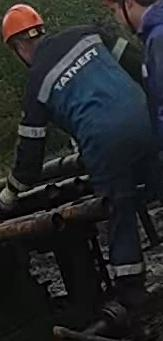gloves: (0, 167, 32, 205)
helmet: (1, 3, 44, 44), (103, 0, 130, 19)
vest: (25, 27, 127, 166), (137, 25, 163, 130)
